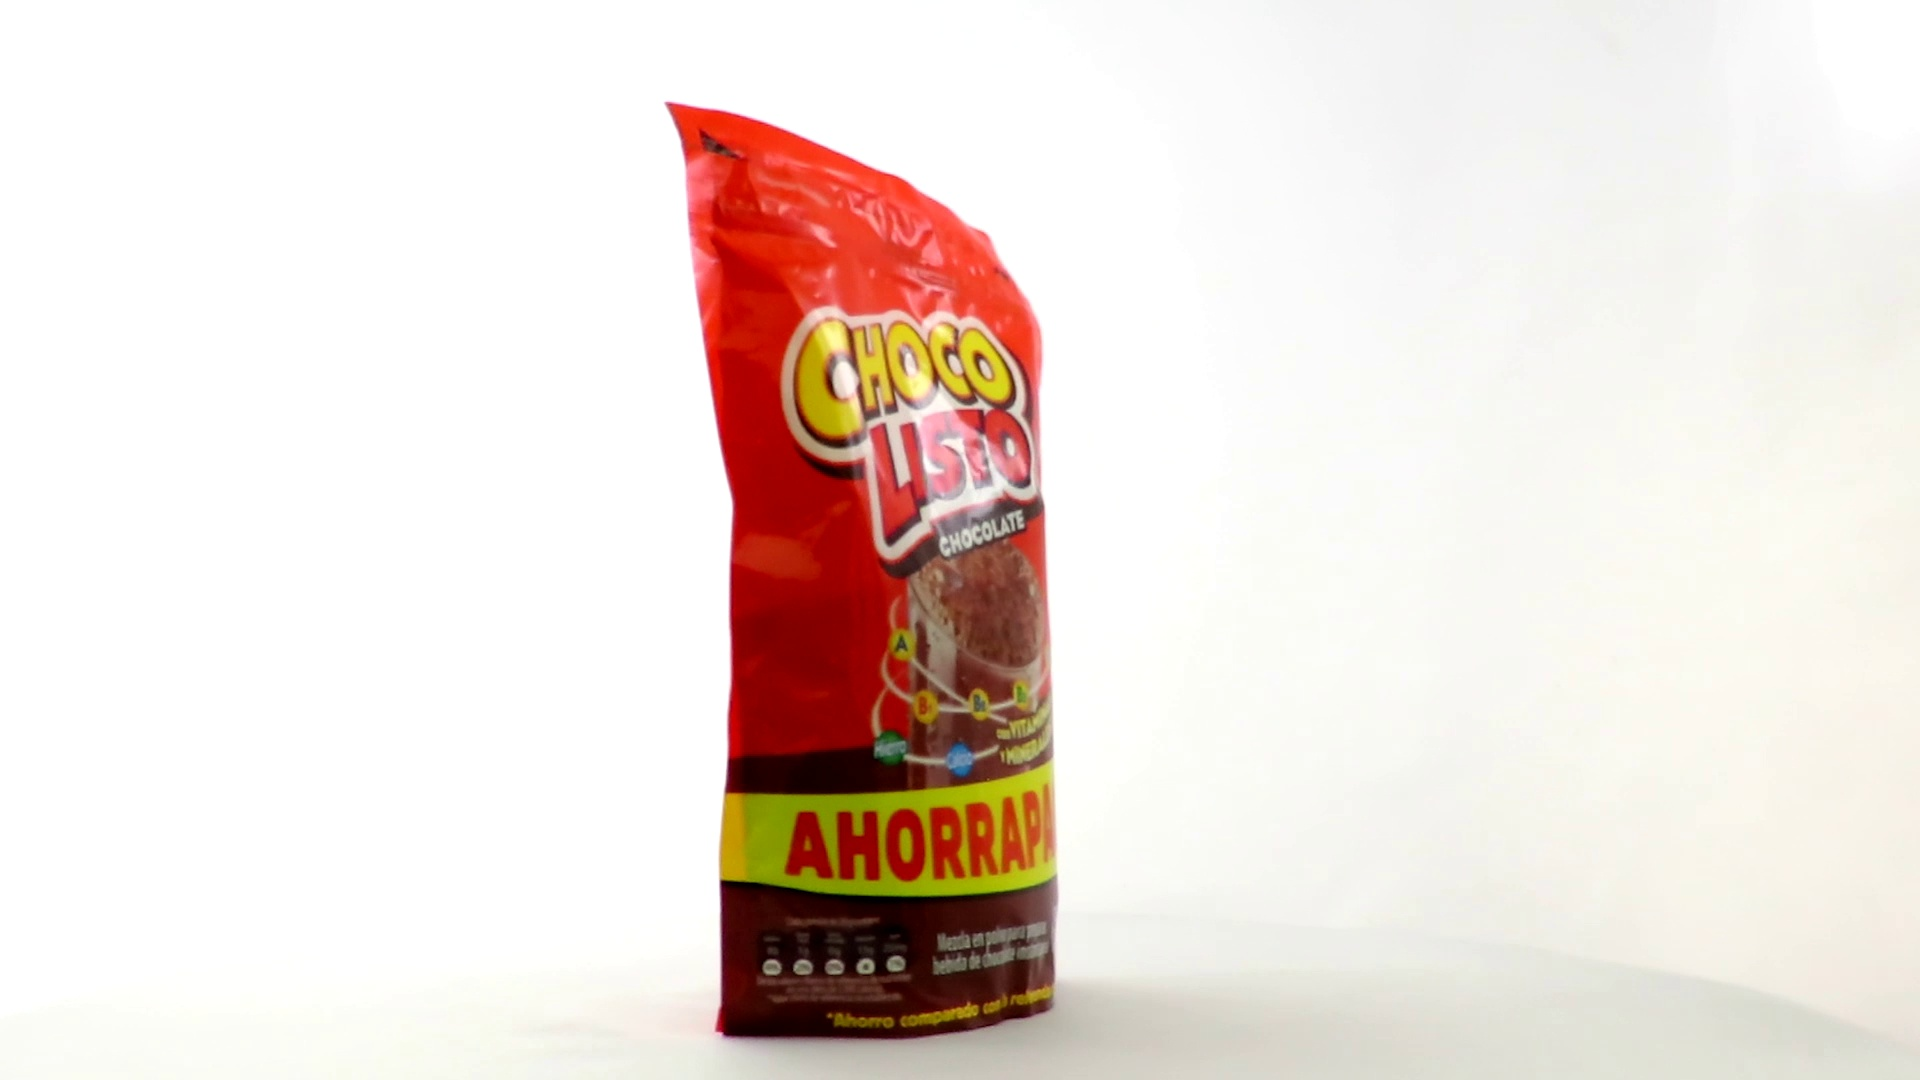COL0170103DYP36000: (659, 96, 1065, 1046)
